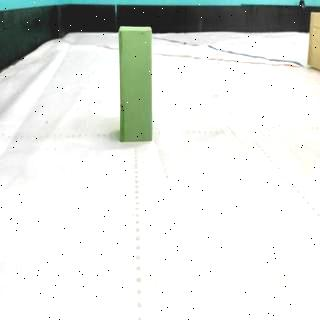greenbox: (118, 24, 155, 142)
